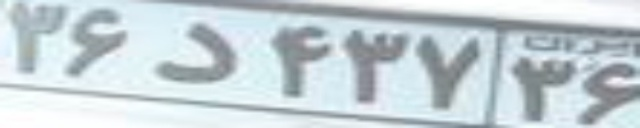3: (340, 28, 408, 104), (511, 55, 574, 121), (6, 2, 60, 73)
4: (266, 24, 332, 96)
6: (68, 6, 124, 79), (577, 61, 639, 124)
7: (415, 34, 482, 111)
dal: (156, 22, 241, 85)
